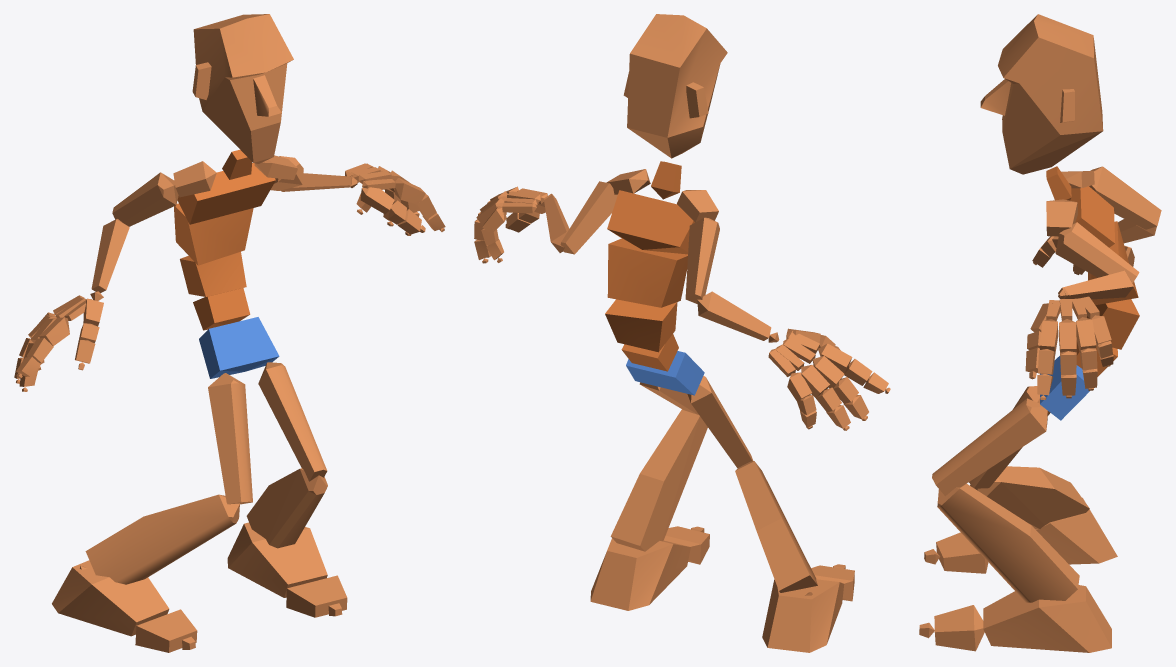
The model's file is prueba65.obj.
3 views of the same model, side by side, from view 1: azimuth 30°, elevation 25°; view 2: azimuth 150°, elevation 25°; view 3: azimuth 270°, elevation 25° (orthographic). The views are drawn at different scales.
Visible parts, largest first — view 1: BOPED_Head, BOPED_R_leg, BOPED_R_foot, BOPED_R_foot01, BOPED_R_legup, BOPED_L_leg, Bone01, BOPED_L_legup, Bone04, Bone05, Bone03, BOPED_R_arm_upper (+8 smaller); view 2: BOPED_Head, BOPED_L_leg, BOPED_R_foot01, BOPED_R_foot, BOPED_R_leg, Bone04, Bone05, Bone03, BOPED_R_legup, BOPED_R_arm_upper, BOPED_L_arm_upper, Bone01 (+9 smaller); view 3: BOPED_Head, BOPED_L_leg, BOPED_R_foot01, BOPED_L_legup, BOPED_R_leg, BOPED_R_foot, BOPED_L_arm_upper, BOPED_R_arm_upper, BOPED_R_foot_toe04, Bone05, BOPED_R_foot_toe01, BOPED_L_arm_fore (+14 smaller).
Boxes of the visible parts, x1,y1,x2,y2 form: BOPED_Head: (192, 14, 293, 163); BOPED_R_leg: (85, 494, 239, 584); BOPED_R_foot: (52, 560, 169, 636); BOPED_R_foot01: (227, 522, 327, 597); BOPED_R_legup: (208, 373, 252, 504); BOPED_L_leg: (246, 468, 327, 548); Bone01: (199, 317, 279, 378); BOPED_L_legup: (258, 362, 327, 481); Bone04: (174, 203, 253, 265); Bone05: (177, 163, 275, 224); Bone03: (180, 251, 246, 296); BOPED_R_arm_upper: (112, 172, 178, 226); BOPED_Head: (623, 14, 727, 158); BOPED_L_leg: (610, 409, 707, 551); BOPED_R_foot01: (590, 538, 690, 610); BOPED_R_foot: (762, 579, 844, 652); BOPED_R_leg: (735, 461, 817, 592); Bone04: (607, 238, 687, 307); Bone05: (607, 190, 694, 254); Bone03: (605, 299, 677, 352); BOPED_R_legup: (687, 376, 753, 468); BOPED_R_arm_upper: (685, 217, 719, 303); BOPED_L_arm_upper: (560, 181, 617, 254); Bone01: (626, 351, 704, 395); BOPED_Head: (980, 14, 1103, 174); BOPED_L_leg: (937, 483, 1079, 602); BOPED_R_foot01: (983, 585, 1111, 652); BOPED_L_legup: (932, 398, 1047, 496); BOPED_R_leg: (970, 466, 1089, 529); BOPED_R_foot: (1035, 497, 1117, 564); BOPED_L_arm_upper: (1055, 222, 1139, 282); BOPED_R_arm_upper: (1089, 166, 1161, 229); BOPED_R_foot_toe04: (934, 605, 984, 651); Bone05: (1070, 186, 1115, 247); BOPED_R_foot_toe01: (936, 532, 988, 573); BOPED_L_arm_fore: (1058, 270, 1133, 299).
Size of the model in its own units: 130 by 169 by 62.06.
